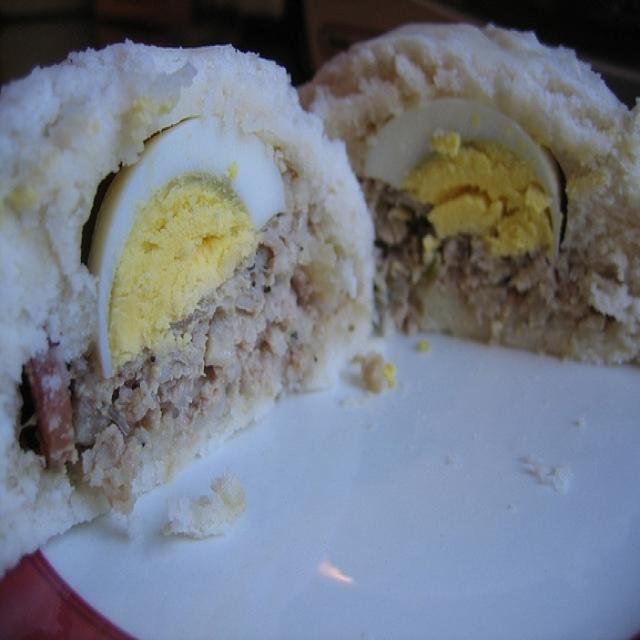带馅早点: (6, 21, 614, 610)
